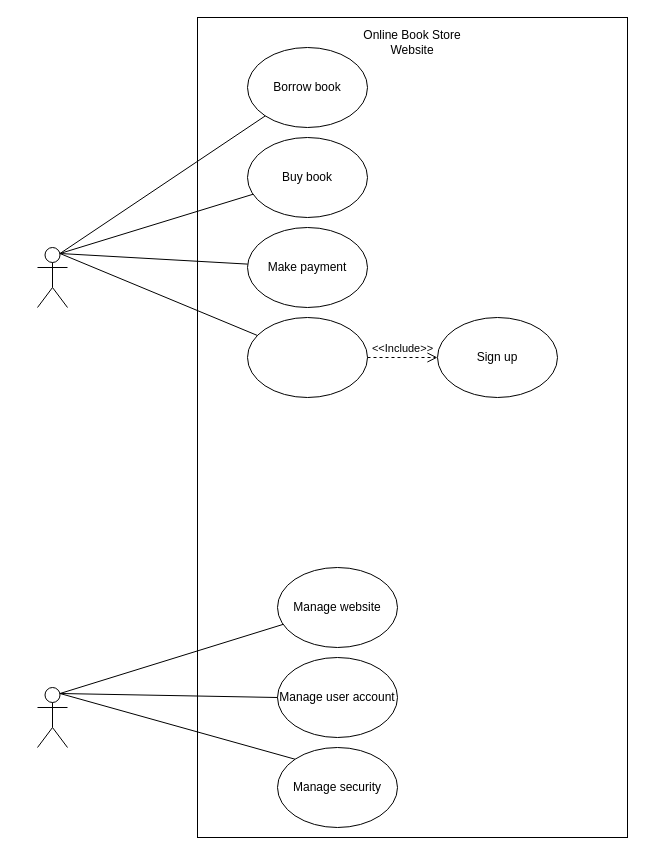
Image size: 645x855. Some labels were removed from this diagram. Each missing label, with the centre of its shape:
"Administrator" goes at point 52,717.
"Customer" goes at point 52,277.
"Log in" goes at point 307,357.
